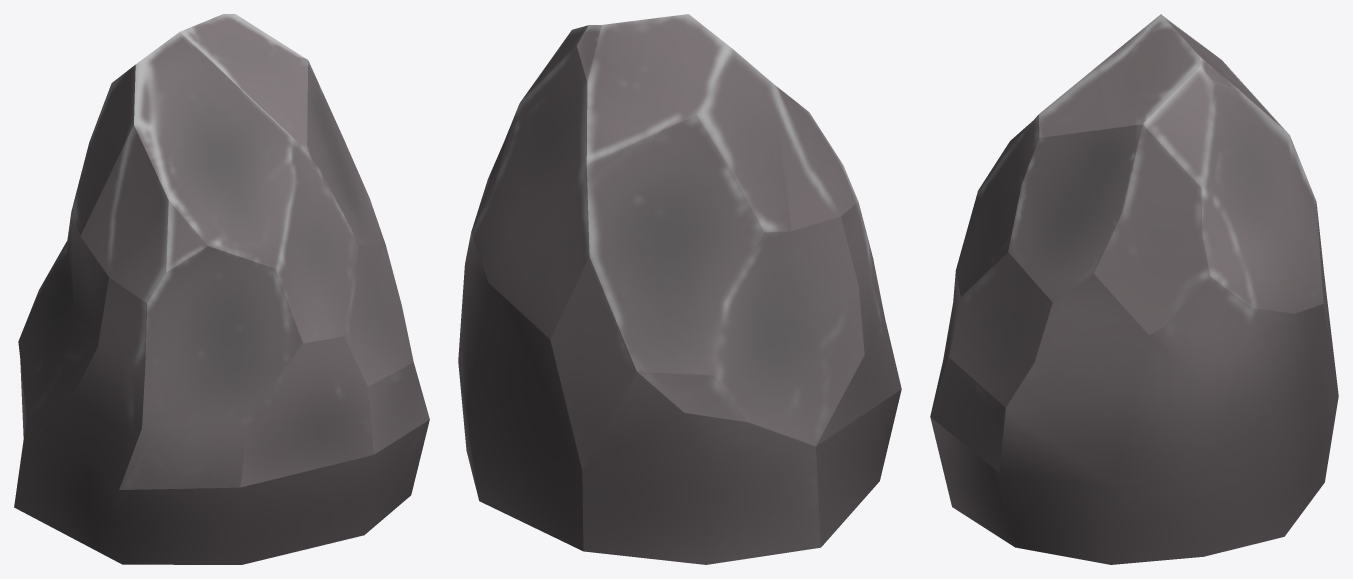
File: ROK0110001.fbx
3 views of the same model, side by side, from view 1: azimuth 30°, elevation 25°; view 2: azimuth 150°, elevation 25°; view 3: azimuth 270°, elevation 25° (orthographic). The views are drawn at different scales.
Visible parts, largest first — view 1: smROK0110001; view 2: smROK0110001; view 3: smROK0110001.
Boxes of the visible parts, x1,y1,x2,y2 form: smROK0110001: [14, 14, 429, 564]; smROK0110001: [458, 14, 901, 564]; smROK0110001: [930, 14, 1338, 564].
Size of the model in its own units: 70.16 by 88.47 by 70.63.
1 material, 1 textured.
